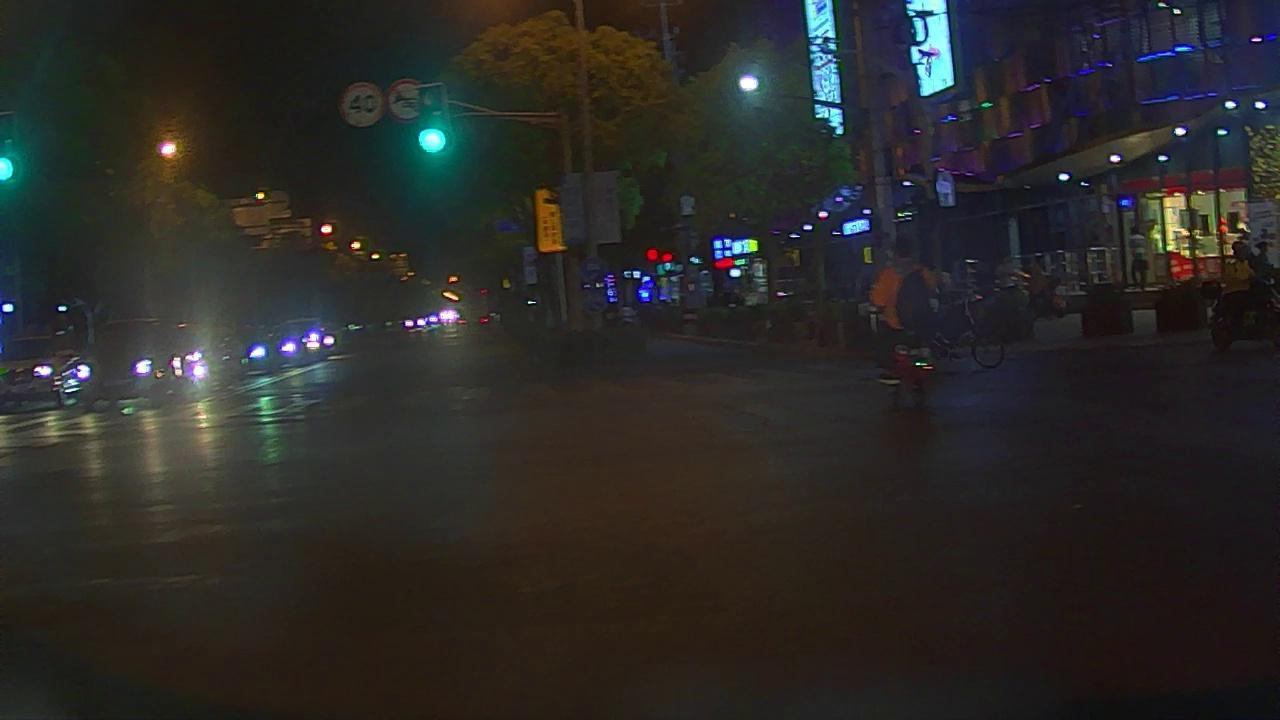traffic_light: (416, 84, 452, 158), (2, 114, 25, 184)
